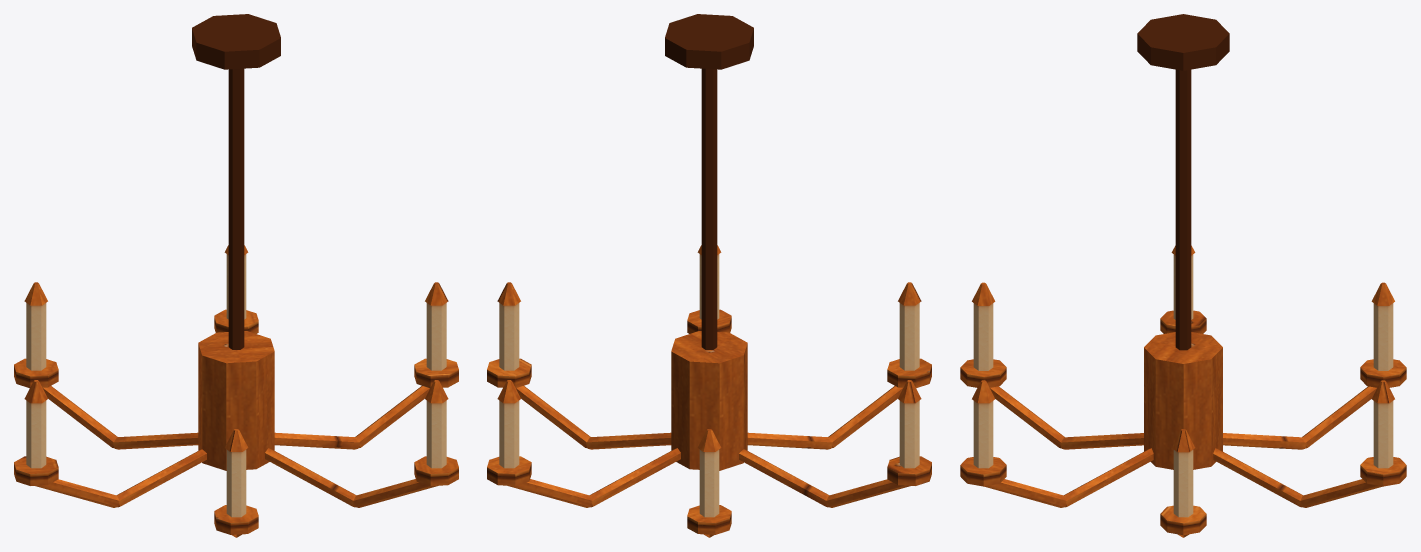
File: Chandelier.fbx
3 renders of one model, left to right at view 1: azimuth 30°, elevation 25°; view 2: azimuth 150°, elevation 25°; view 3: azimuth 270°, elevation 25°, orthographic.
Visible parts, largest first — view 1: Chandelier; view 2: Chandelier; view 3: Chandelier.
Part boxes in pixels (x1,y1,x2,y2): Chandelier: (14, 14, 458, 537); Chandelier: (487, 14, 931, 537); Chandelier: (960, 14, 1406, 537).
Size of the model in its own units: 0.77 by 0.7446 by 0.6762.
